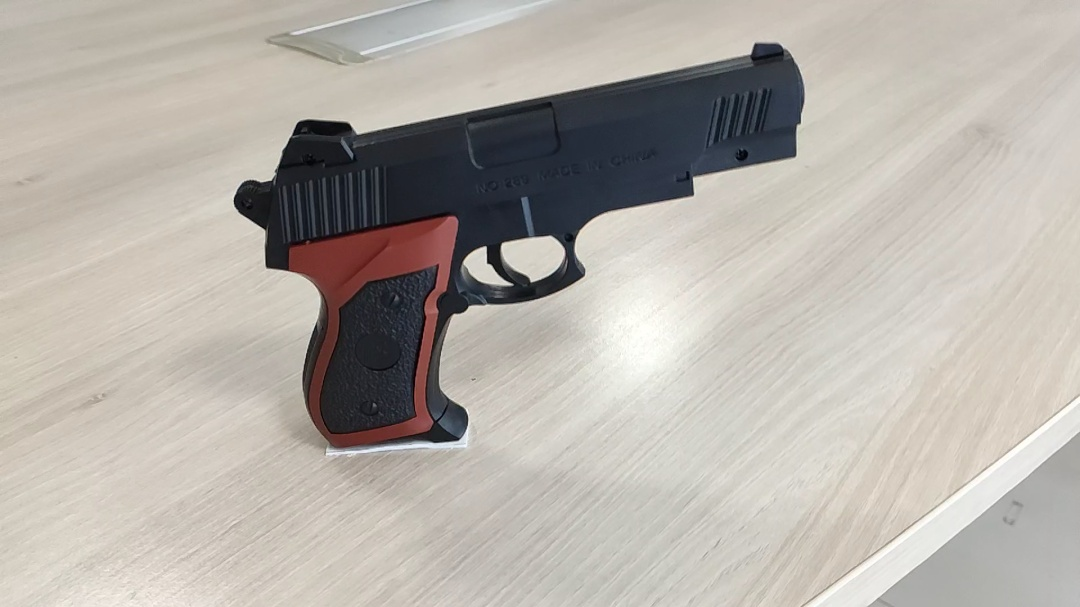gun: (231, 42, 808, 455)
